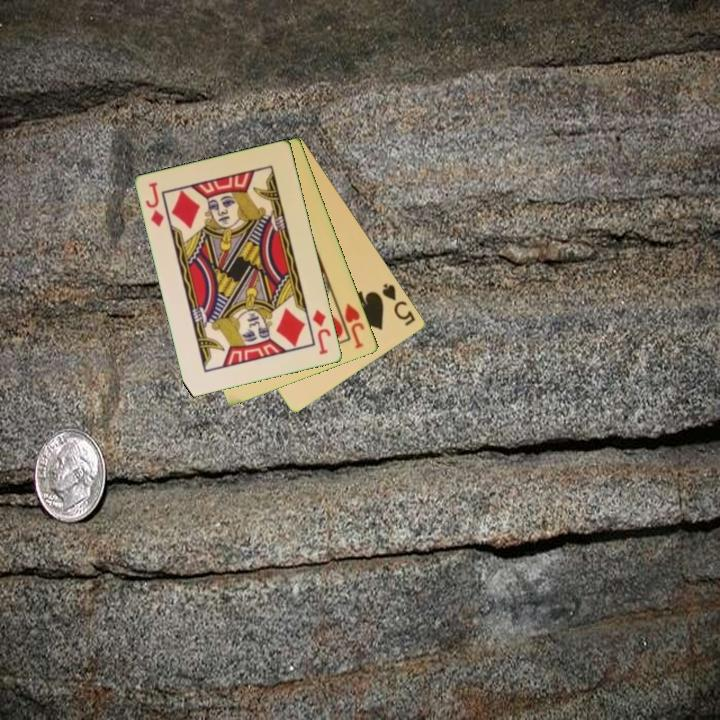5s: (379, 280, 419, 329)
Jd: (309, 307, 334, 358), (143, 179, 167, 230)
Jh: (334, 299, 368, 352)
